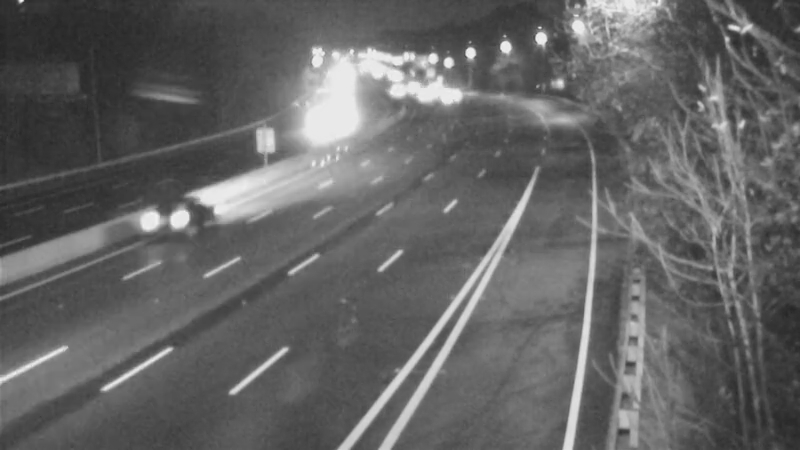vehicle: (125, 178, 205, 258), (418, 66, 468, 116)
